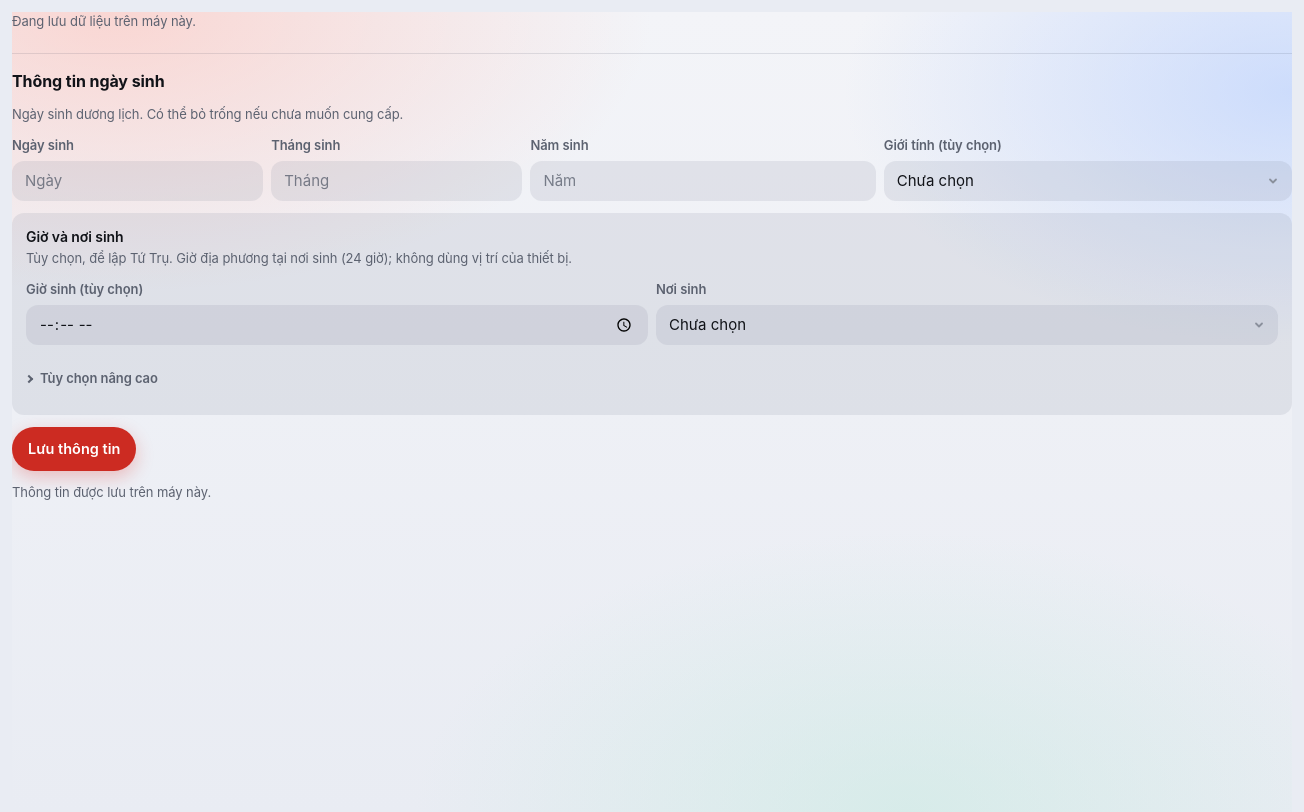
Test: Thông tin ngày sinh trong Tài khoản › chặn ngày không tồn tại và ngày tương lai
Type "29" into the number field labelled "Ngày sinh" at (138, 181), box [12,161,263,201]
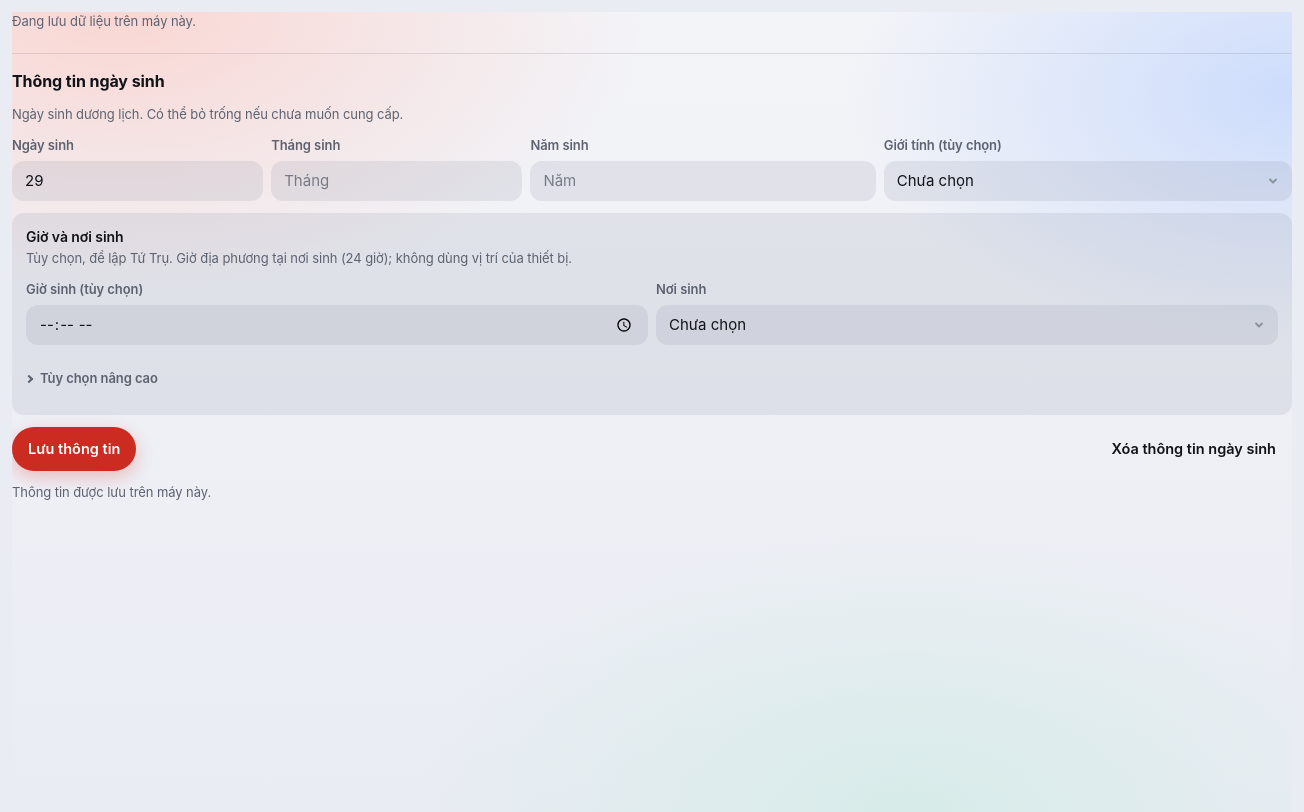
Type "2" into the number field labelled "Tháng sinh" at (397, 181), box [271,161,522,201]
Type "2001" into the number field labelled "Năm sinh" at (703, 181), box [530,161,876,201]
Click the button "Lưu thông tin" at (74, 449), box [12,427,136,471]
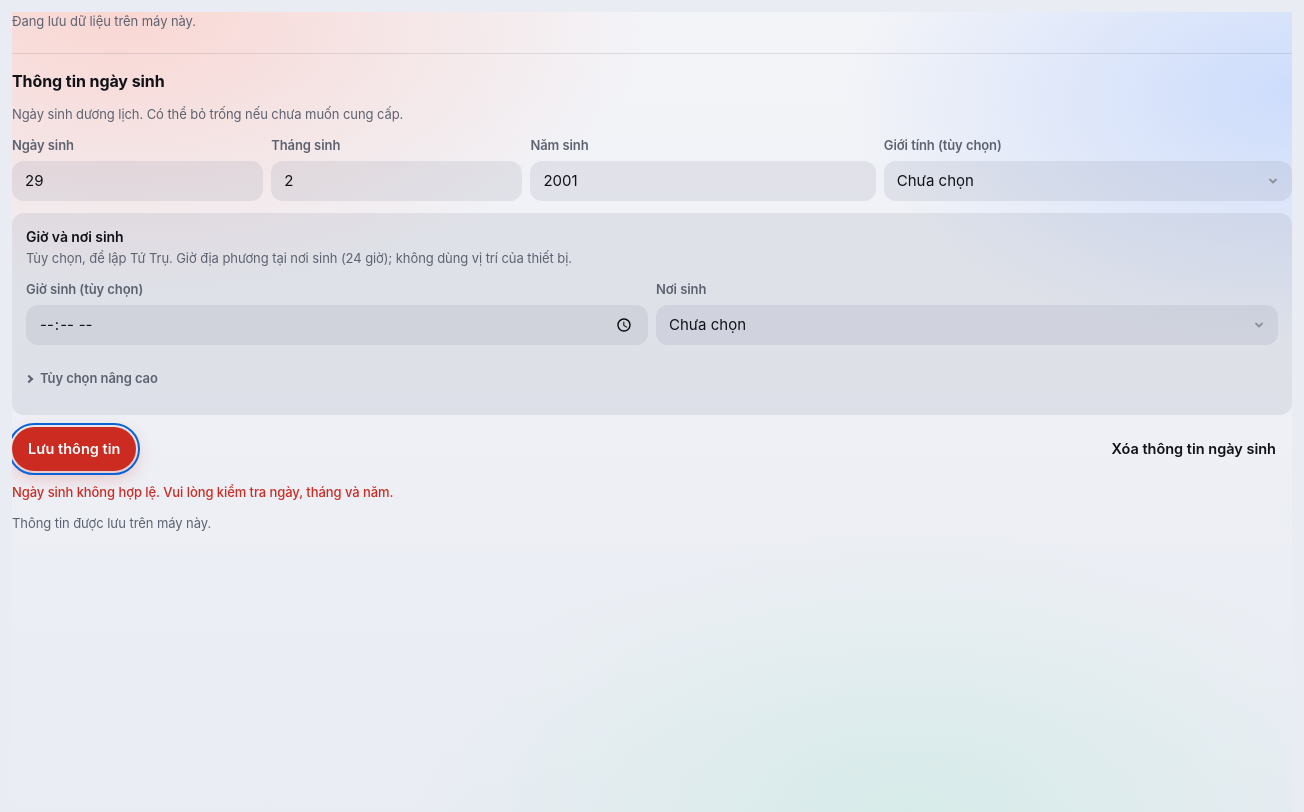
Expected: the message shows "Ngày sinh không hợp lệ", [12,484,393,500]
Replace the text in the number field labelled "Ngày sinh" with "1" at (138, 181), box [12,161,263,201]
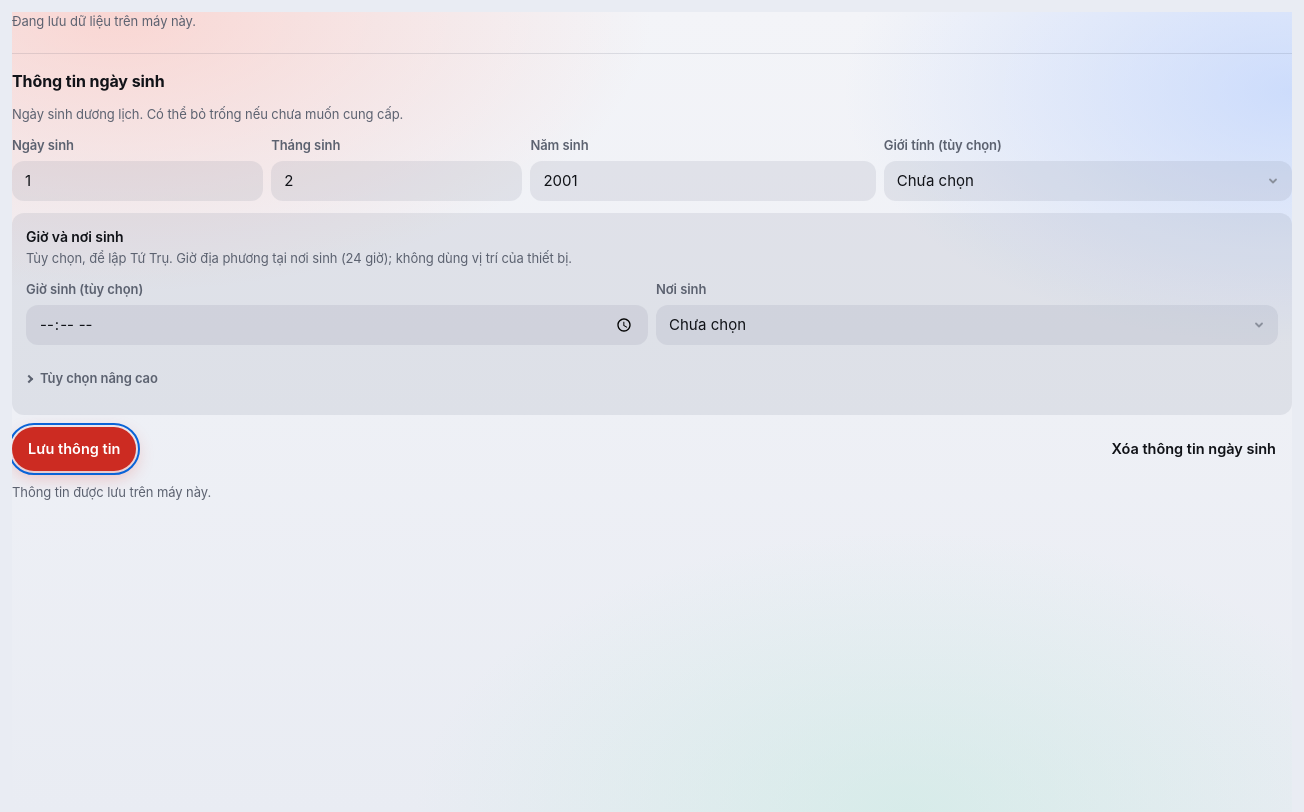
Replace the text in the number field labelled "Tháng sinh" with "1" at (397, 181), box [271,161,522,201]
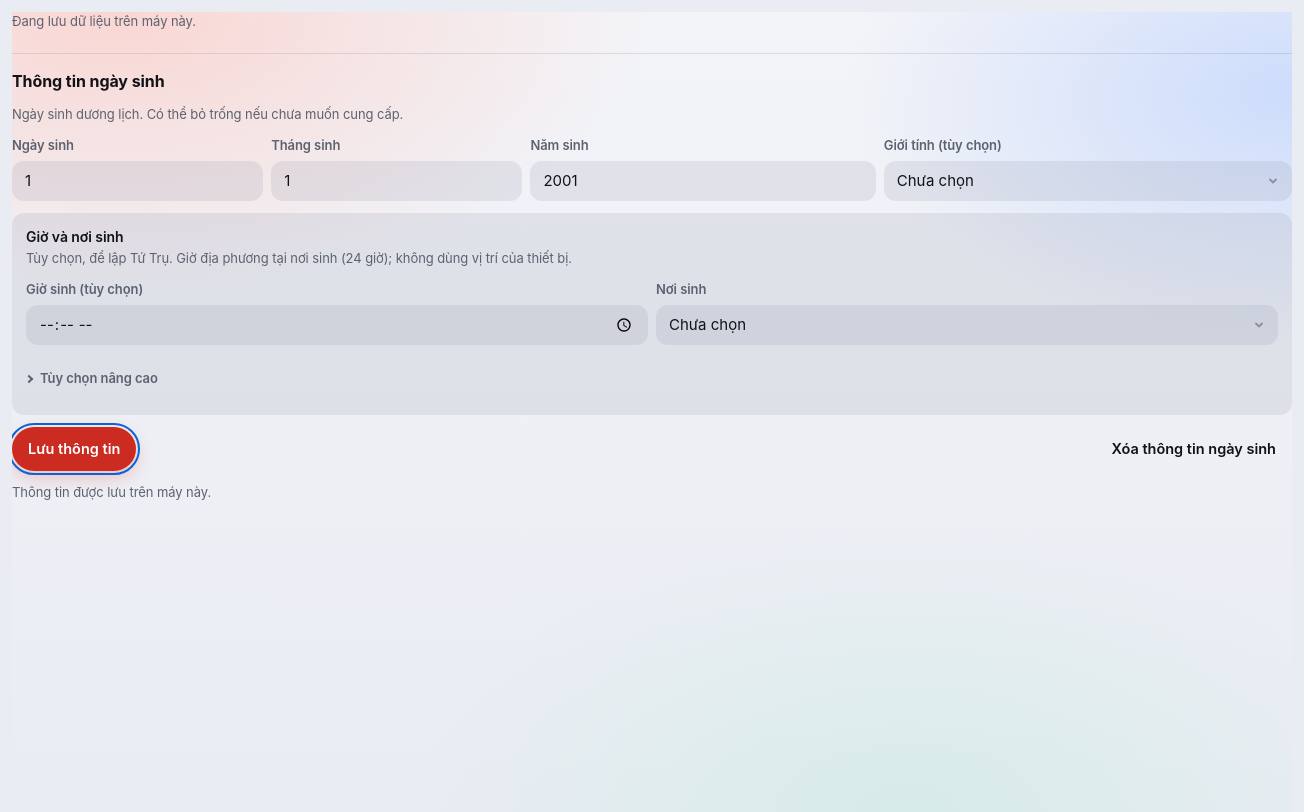
Replace the text in the number field labelled "Năm sinh" with "9999" at (703, 181), box [530,161,876,201]
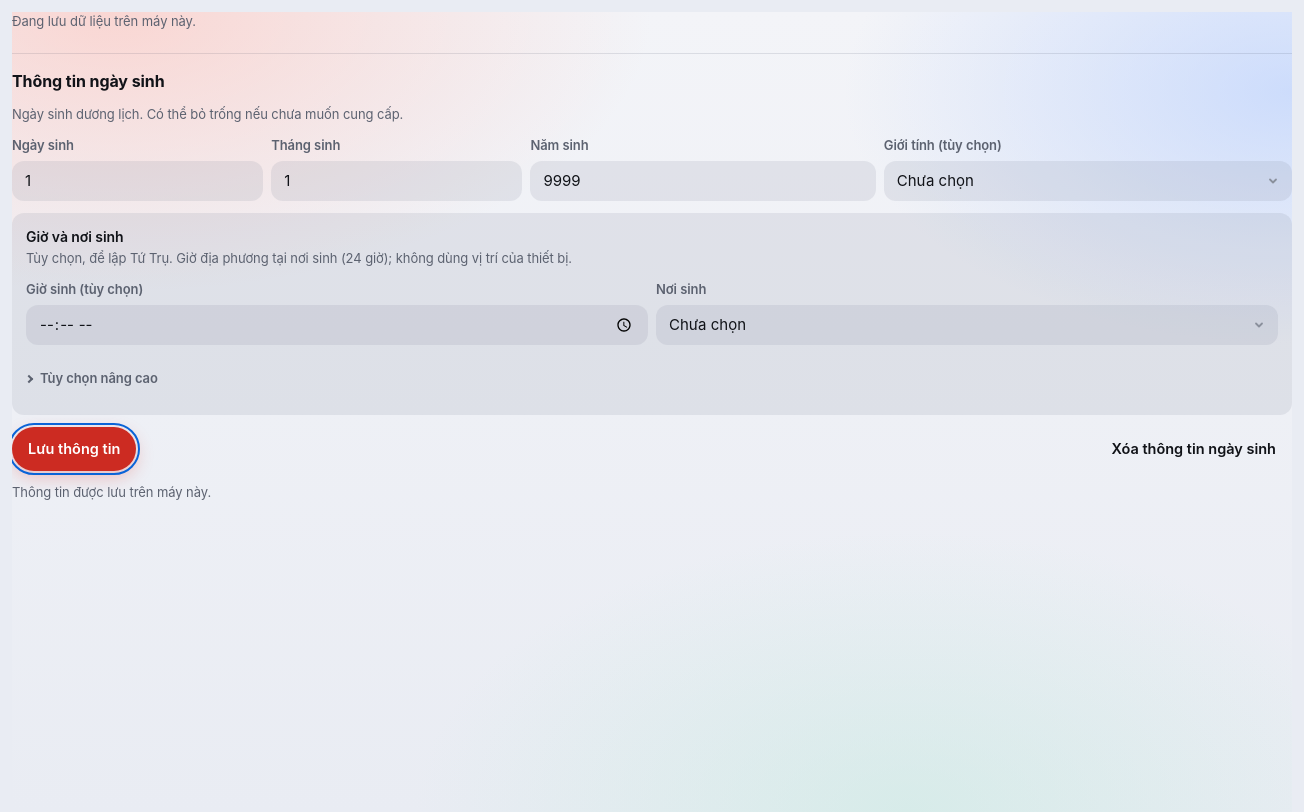
Click the button "Lưu thông tin" at (74, 449), box [12,427,136,471]
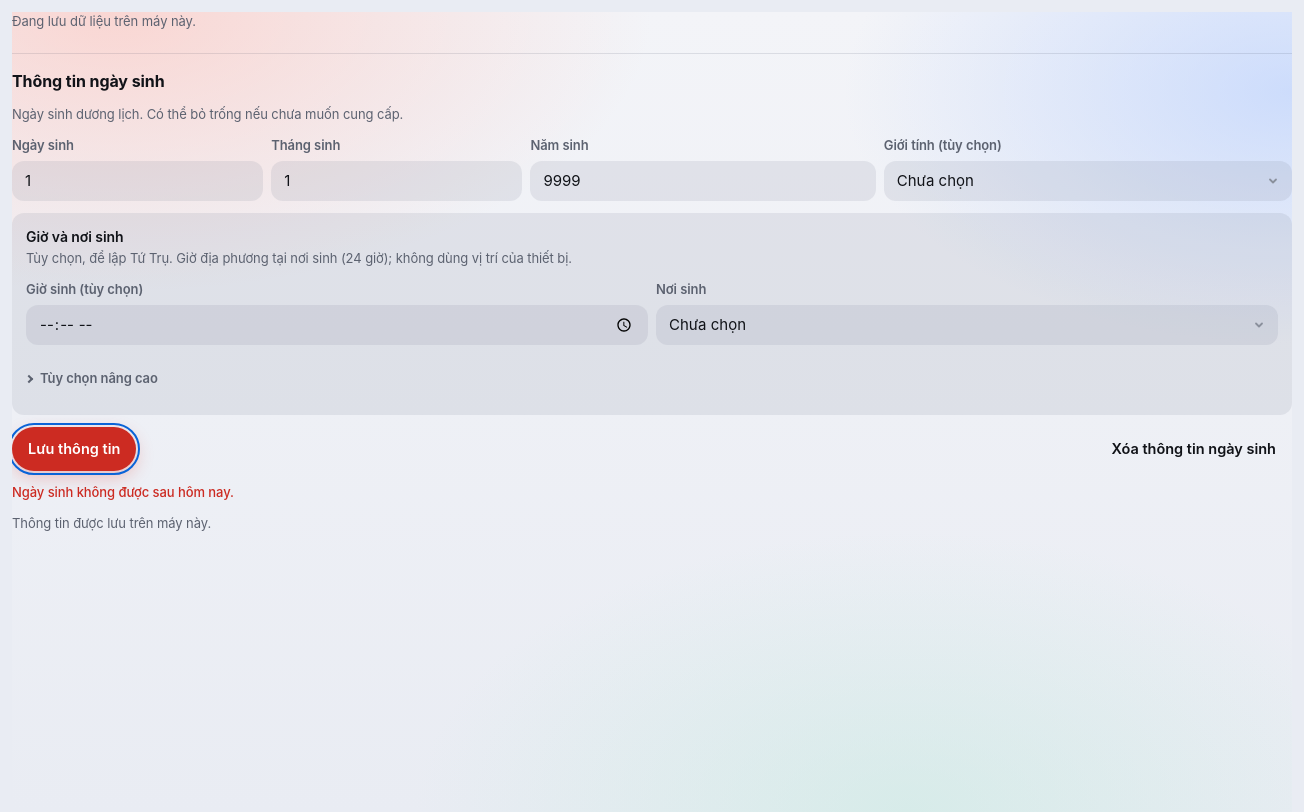
Expected: the message shows "Ngày sinh không được sau hôm nay", [12,484,234,500]
